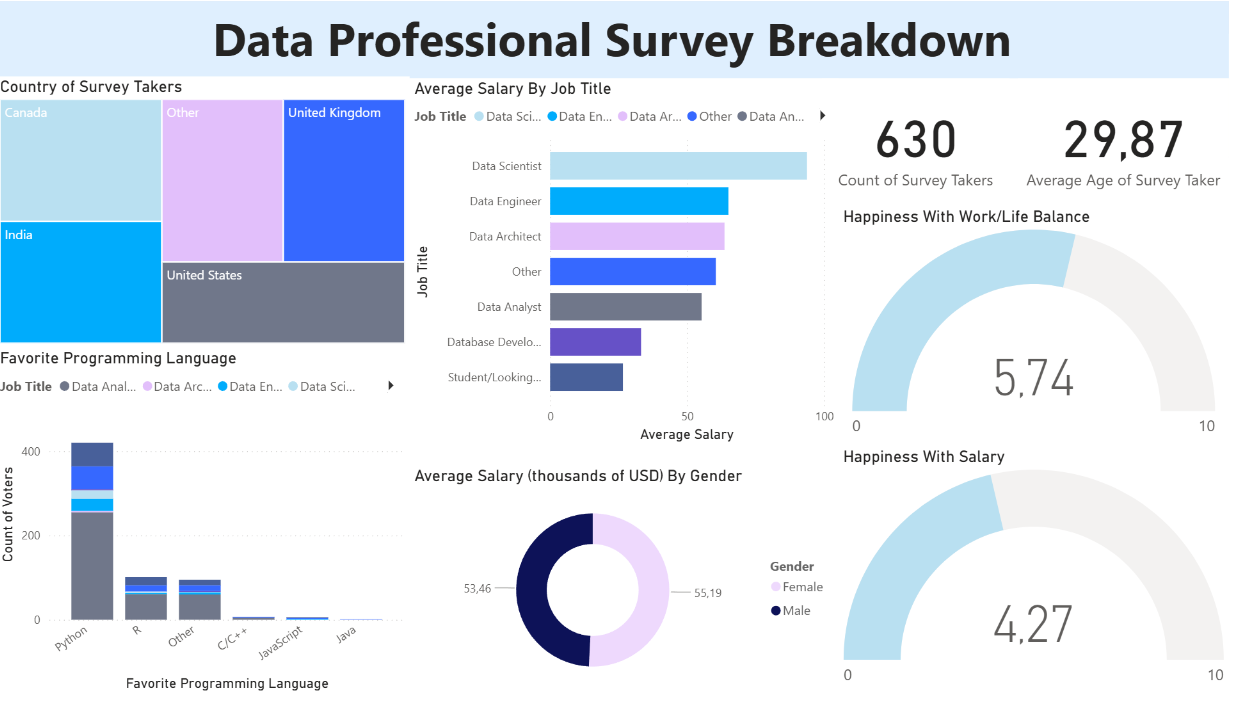

The dashboard page shown, as its layout file describes it:
{"tool":"powerbi","page":{"name":"Страница 1","canvas":[1280,720],"ordinal":0},"visuals":[{"type":"textbox","box":[0,0,1280.3,79.6],"z":0},{"type":"card","fields":{"Values":["Count(Data Professional Survey.Unique ID)"]},"box":[857.6,79.6,194.9,133.1],"z":1000},{"type":"card","fields":{"Values":["Avg(Data Professional Survey.Q10 - Current Age)"]},"box":[1060.7,79.6,219.6,133.1],"z":2000},{"type":"barChart","title":"Average Salary By Job Title","fields":{"Category":["Data Professional Survey.Q1 - Which Title Best Fits your Current Role?.1"],"Y":["Avg(Data Professional Survey.Average Salary)"],"Series":["Data Professional Survey.Q1 - Which Title Best Fits your Current Role?.1"]},"box":[429.5,79.6,446,382.8],"z":3000},{"type":"columnChart","title":"Favorite Programming Language","fields":{"Category":["Data Professional Survey.Q5 - Favorite Programming Language.1"],"Y":["CountNonNull(Data Professional Survey.Unique ID)"],"Series":["Data Professional Survey.Q1 - Which Title Best Fits your Current Role?.1"]},"box":[0,359.5,429.5,360.9],"z":4000},{"type":"treemap","title":"Country of Survey Takers","fields":{"Group":["Data Professional Survey.Q11 - Which Country do you live in?.1"],"Values":["Count(Data Professional Survey.Q11 - Which Country do you live in?.1)"]},"box":[0,78.2,429.5,281.3],"z":5000},{"type":"gauge","title":"Happiness With Work/Life Balance","fields":{"Y":["Avg(Data Professional Survey.Q6 - How Happy are you in your Current Position with the following? (Work/Life Balance))"],"MinValue":["Min(Data Professional Survey.Q6 - How Happy are you in your Current Position with the following? (Work/Life Balance))1"],"MaxValue":["Max(Data Professional Survey.Q6 - How Happy are you in your Current Position with the following? (Work/Life Balance))2"]},"box":[875.5,212.7,404.8,249.7],"z":6000},{"type":"gauge","title":"Happiness With Salary","fields":{"Y":["Avg(Data Professional Survey.Q6 - How Happy are you in your Current Position with the following? (Salary))"],"MinValue":["Min(Data Professional Survey.Q6 - How Happy are you in your Current Position with the following? (Salary))"],"MaxValue":["Max(Data Professional Survey.Q6 - How Happy are you in your Current Position with the following? (Salary))"]},"box":[875.5,462.4,404.8,258],"z":7000},{"type":"donutChart","title":"Average Salary (thousands of USD) By Gender","fields":{"Category":["Data Professional Survey.Q9 - Male/Female?"],"Y":["Avg(Data Professional Survey.Average Salary)"]},"box":[429.5,481.6,446,238.8],"z":8000}]}

Visuals, with their boxes in screenshot pixels (x1, y1, x2, y2), scaled from the page's 1280x720 canvas onto the 1245x712 screenshot:
textbox: BBox(0, 0, 1244, 79)
card - Count(Data Professional Survey.Unique ID): BBox(834, 79, 1024, 210)
card - Avg(Data Professional Survey.Q10 - Current Age): BBox(1032, 79, 1244, 210)
"Average Salary By Job Title" barChart: BBox(418, 79, 852, 457)
"Favorite Programming Language" columnChart: BBox(0, 356, 418, 711)
"Country of Survey Takers" treemap: BBox(0, 77, 418, 356)
"Happiness With Work/Life Balance" gauge: BBox(852, 210, 1244, 457)
"Happiness With Salary" gauge: BBox(852, 457, 1244, 711)
"Average Salary (thousands of USD) By Gender" donutChart: BBox(418, 476, 852, 711)
